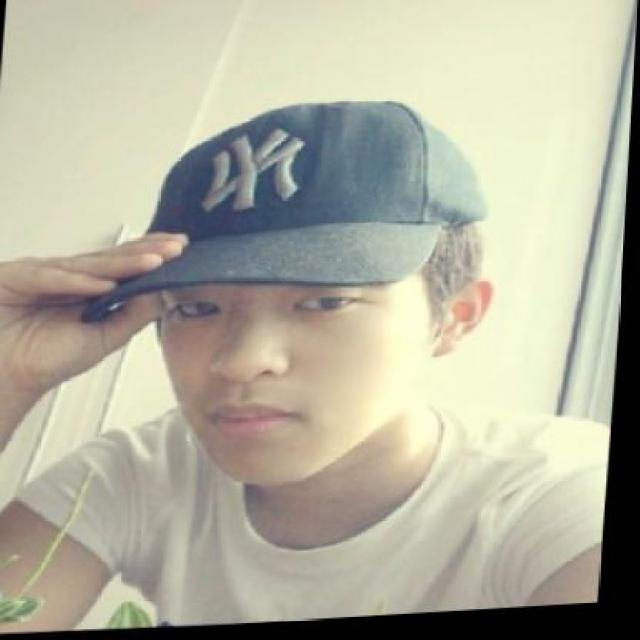hat: (74, 84, 506, 338)
